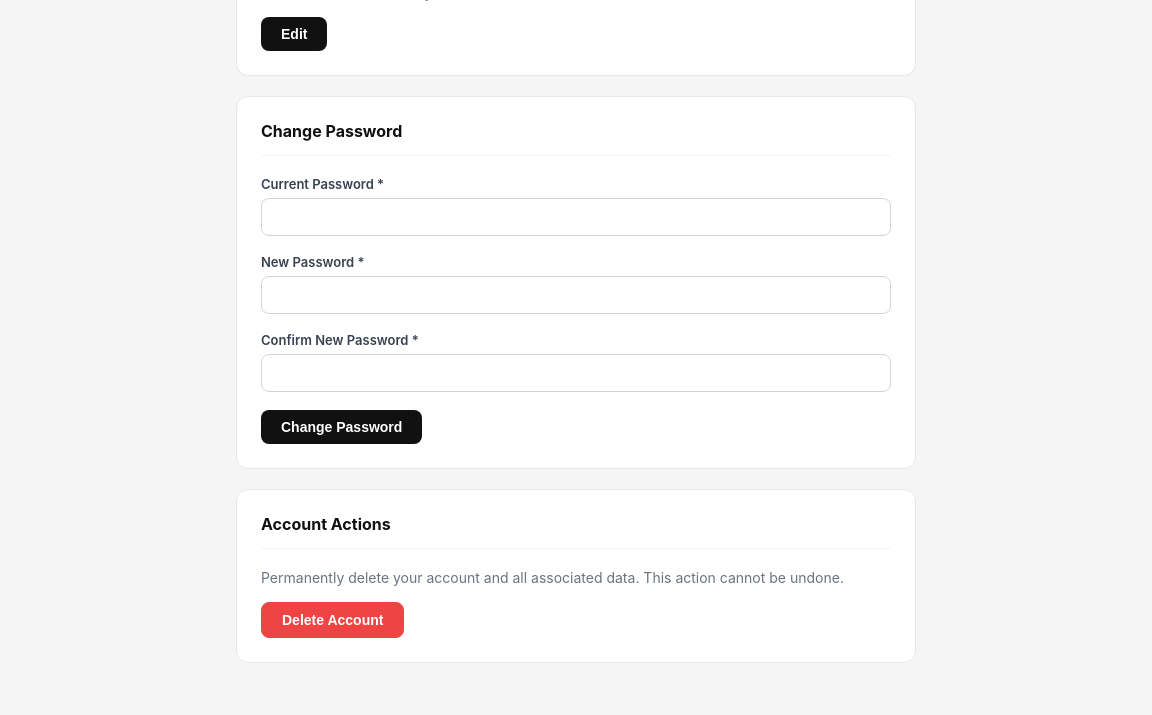
Test case: EmployerProfilePage › closes delete modal on Cancel
(page scrolled)
Click the button "Delete Account" at (333, 620), box [261,602,404,638]
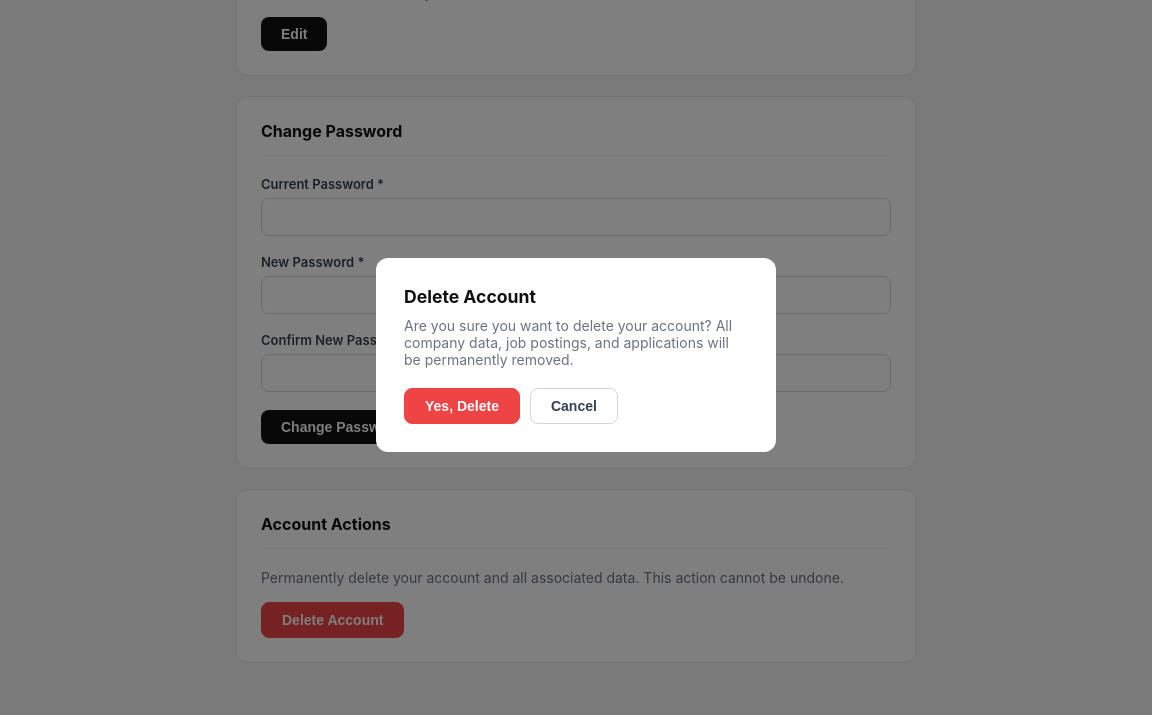
Expected: the text "Are you sure" is shown, [404,317,732,368]
Click the button "Cancel" at (574, 406), box [530,388,618,424]
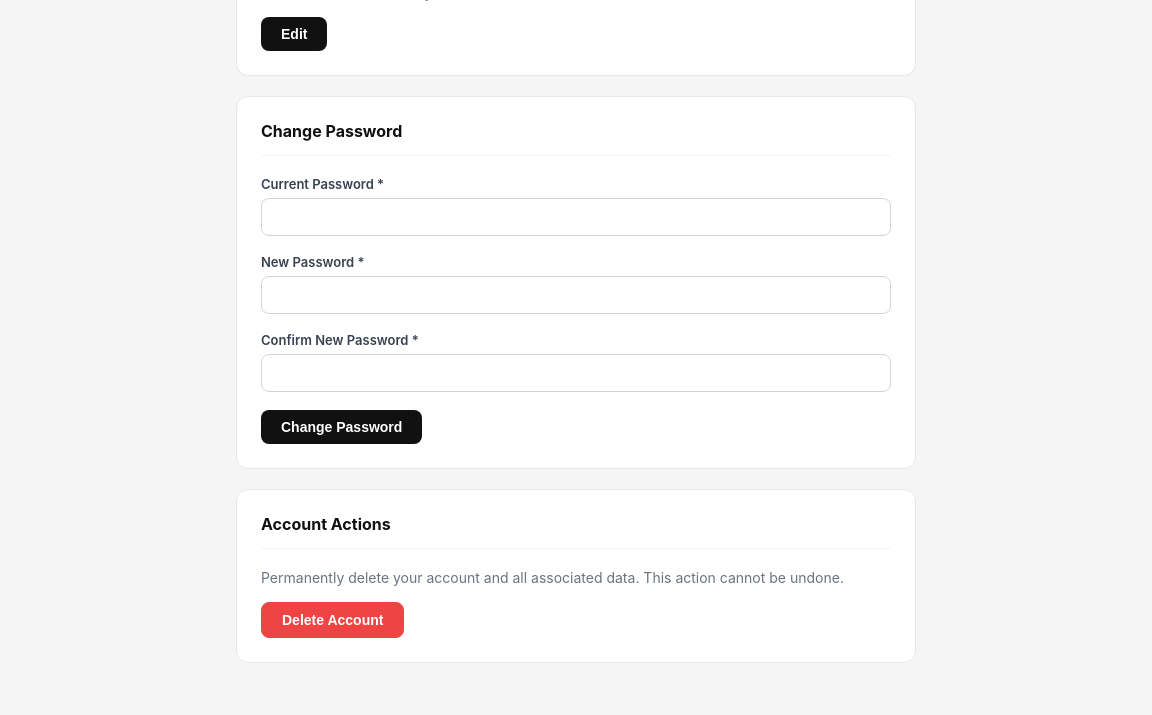
Expected: the text "Are you sure" is gone
